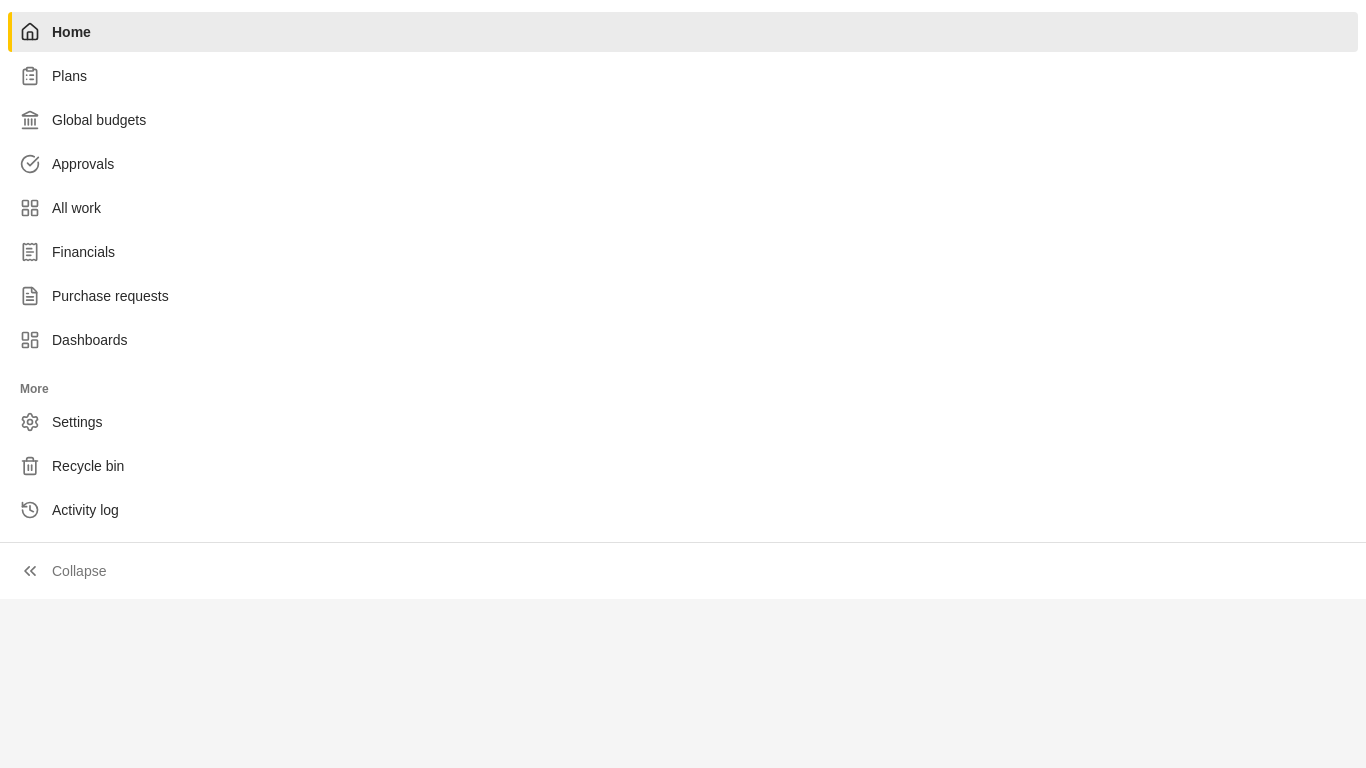
it: Sidebar › collapses and saves that for the person (FR-011, US2 scenario 3)
The image size is (1366, 768).
What coordinates should you click on to do the following:
click the button "Collapse"
I would click on:
 (79, 570)
Its box is [8, 551, 1358, 591].
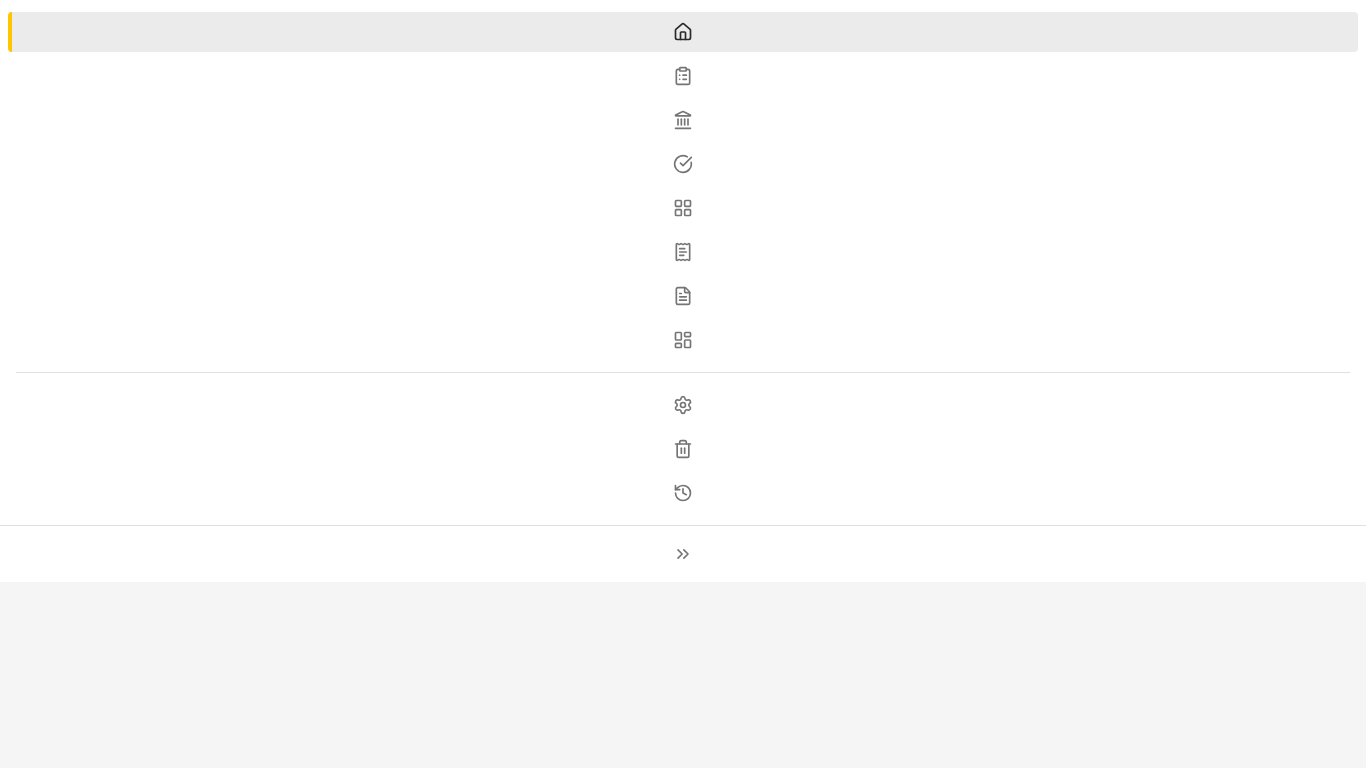
Expected: the button named "Expand sidebar" is shown, [8, 534, 1358, 574]
